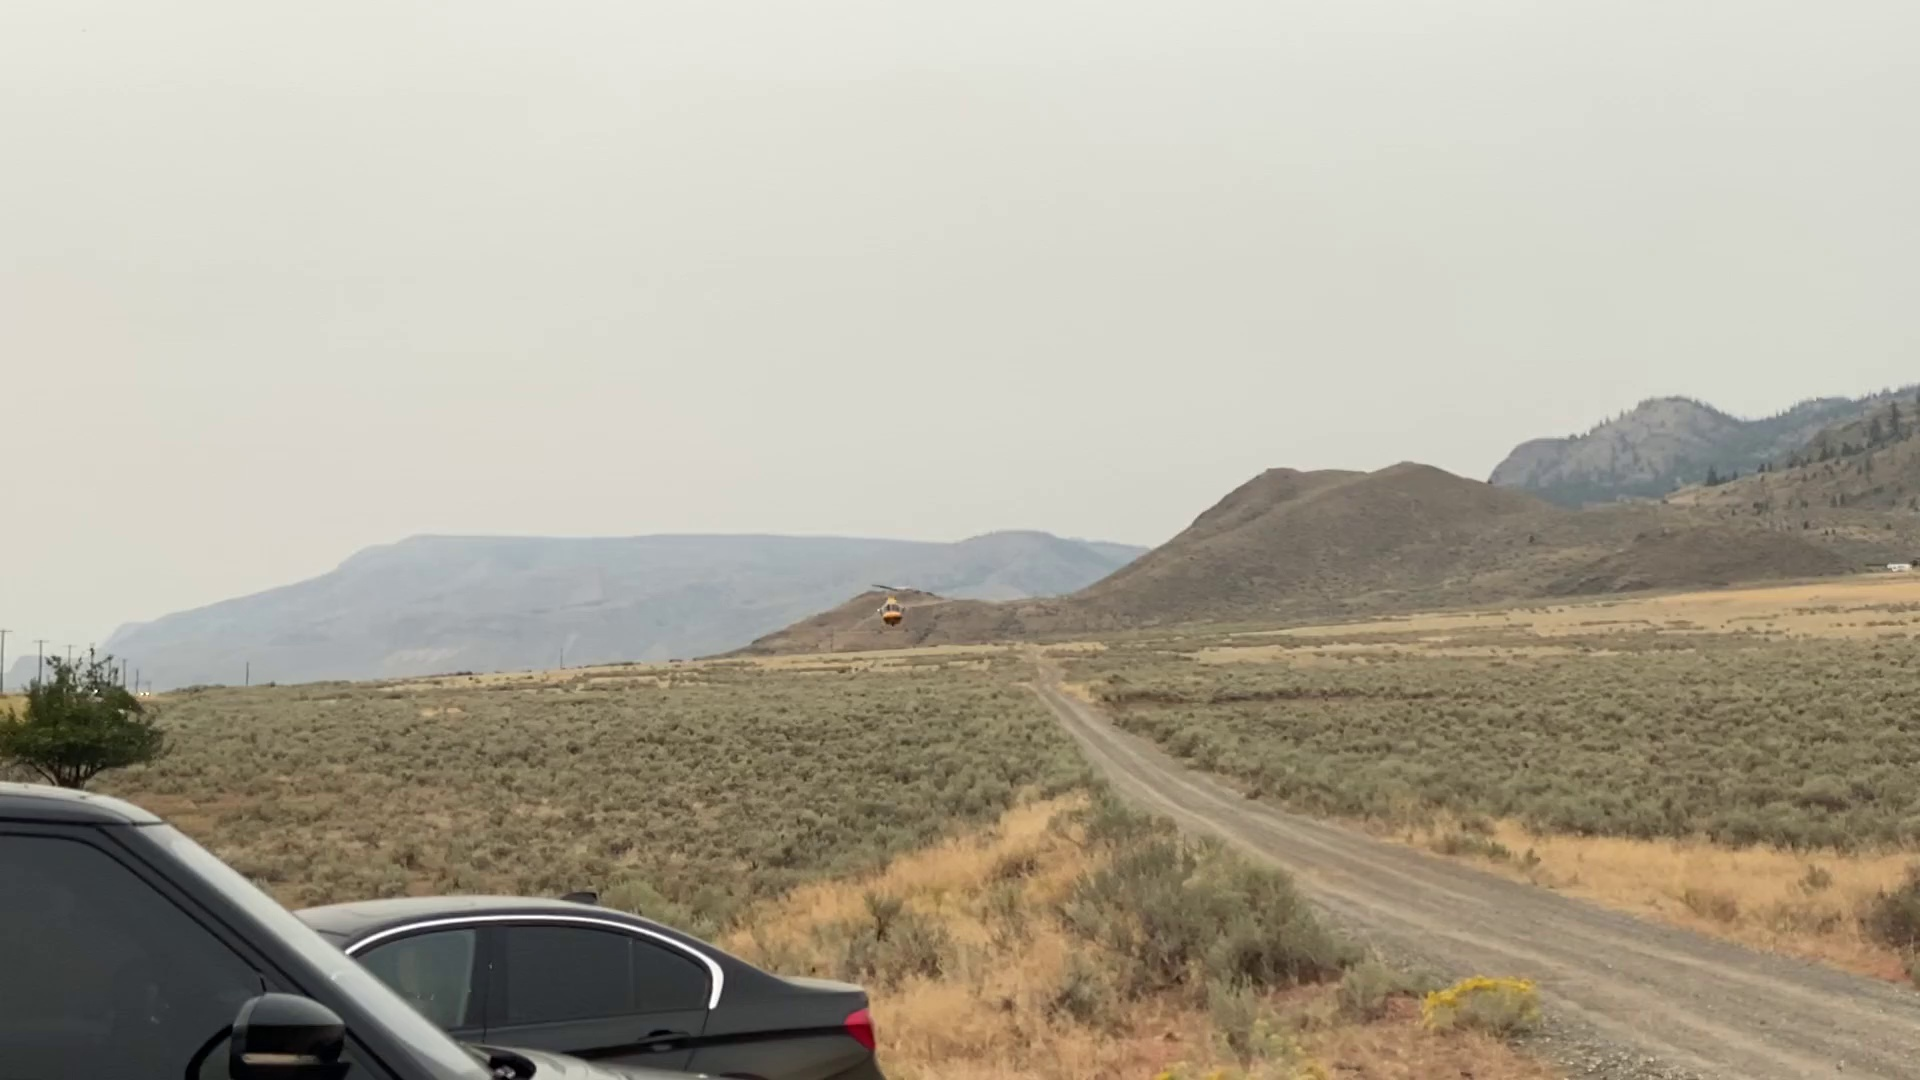heli: (868, 582, 914, 628)
